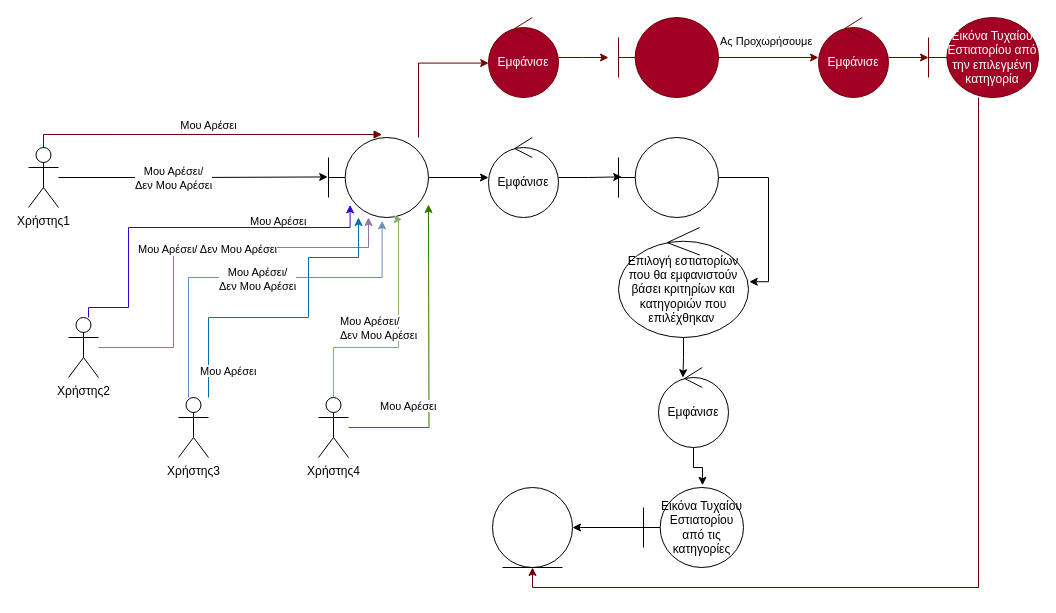
The diagram is 1056 pixels wide and 613 high, and some of its shapes have lost their labels. Here are the shapes that lost their labels. From the top down, the centre of each, then its label:
pixel 668 57: Οθόνη Ταιριάσματος Κατηγοριών
pixel 378 177: Εικόνα Τυχαίας Κατηγορίας Φαγητού
pixel 668 177: Οθόνη Επιλεχθεισών Κατηγοριών
pixel 532 527: Διαδικασία Ομαδικής Παραγγελίας
